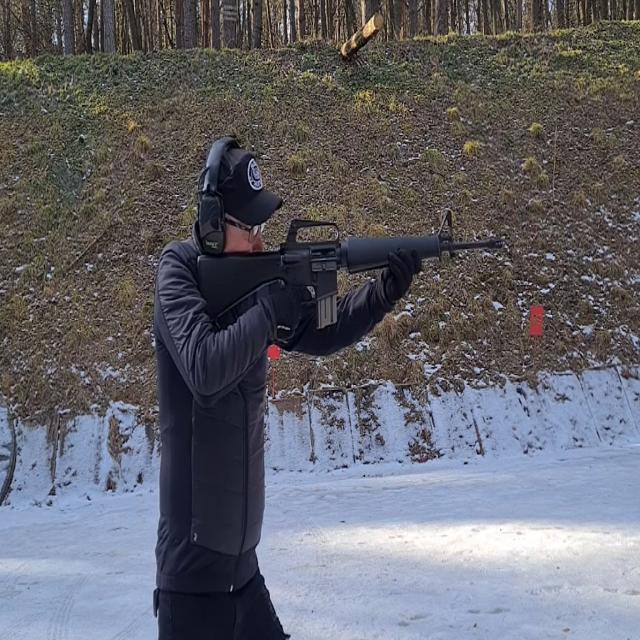m16: (152, 156, 540, 398)
